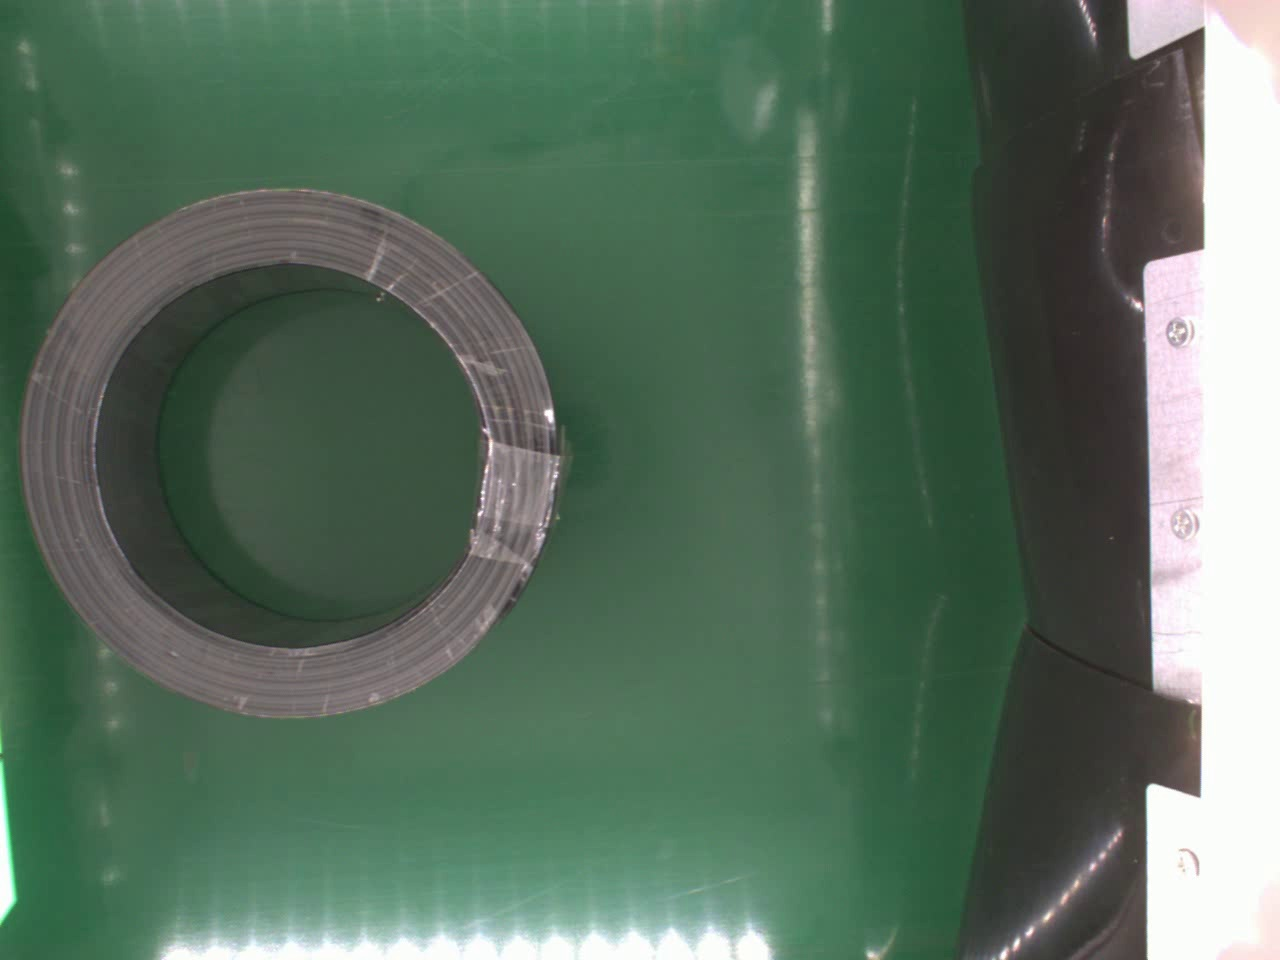black: (17, 183, 566, 724)
